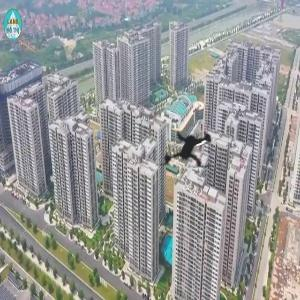drone: (138, 101, 242, 205)
